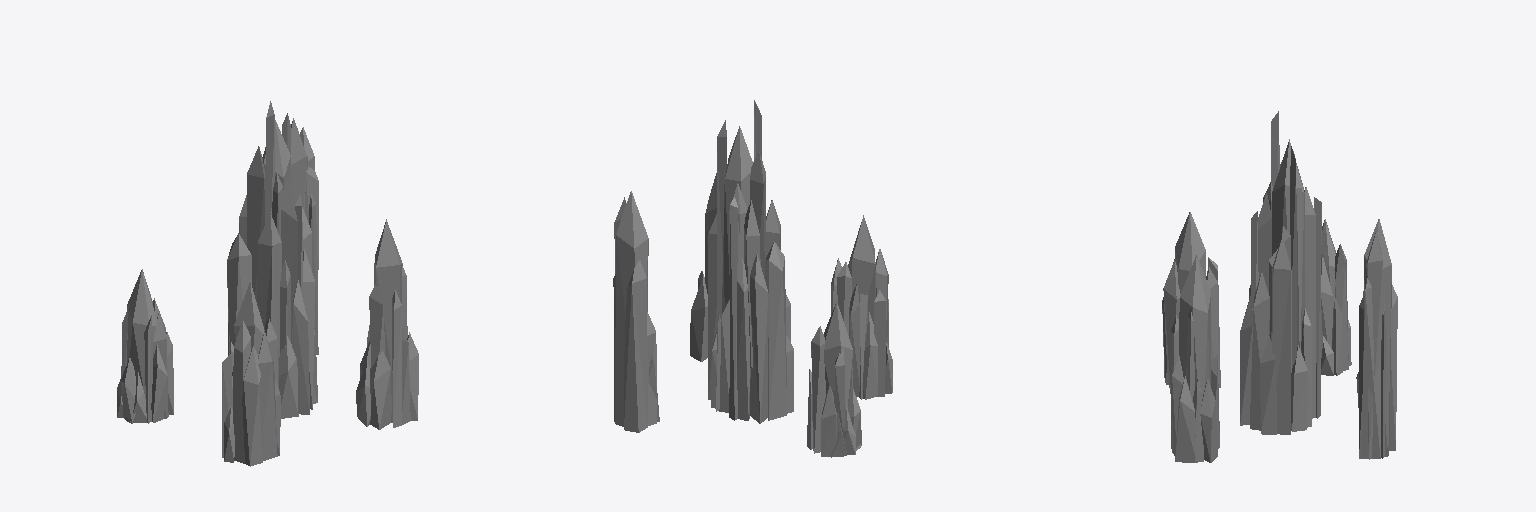
The model's file is crystal.obj.
The picture shows the model from 3 angles: view 1: azimuth 30°, elevation 25°; view 2: azimuth 150°, elevation 25°; view 3: azimuth 270°, elevation 25°; orthographic projection.
Parts seen in each view (by area): view 1: Cylinder003_Untitled; view 2: Cylinder003_Untitled; view 3: Cylinder003_Untitled.
Boxes of the visible parts, box(x1,y1,x2,y2) form: Cylinder003_Untitled: box(117, 101, 418, 466); Cylinder003_Untitled: box(613, 100, 892, 457); Cylinder003_Untitled: box(1162, 111, 1397, 462).
Bounding box in the file's own units: 15.97 × 20.6 × 14.4.